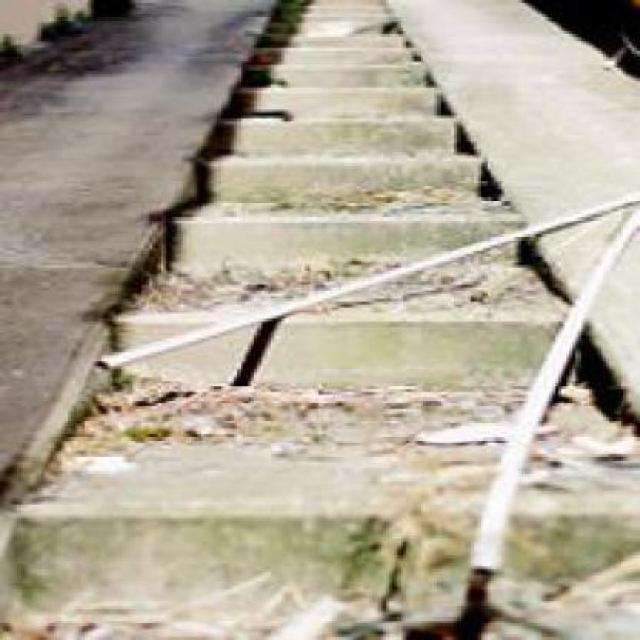stair: (74, 169, 620, 578)
